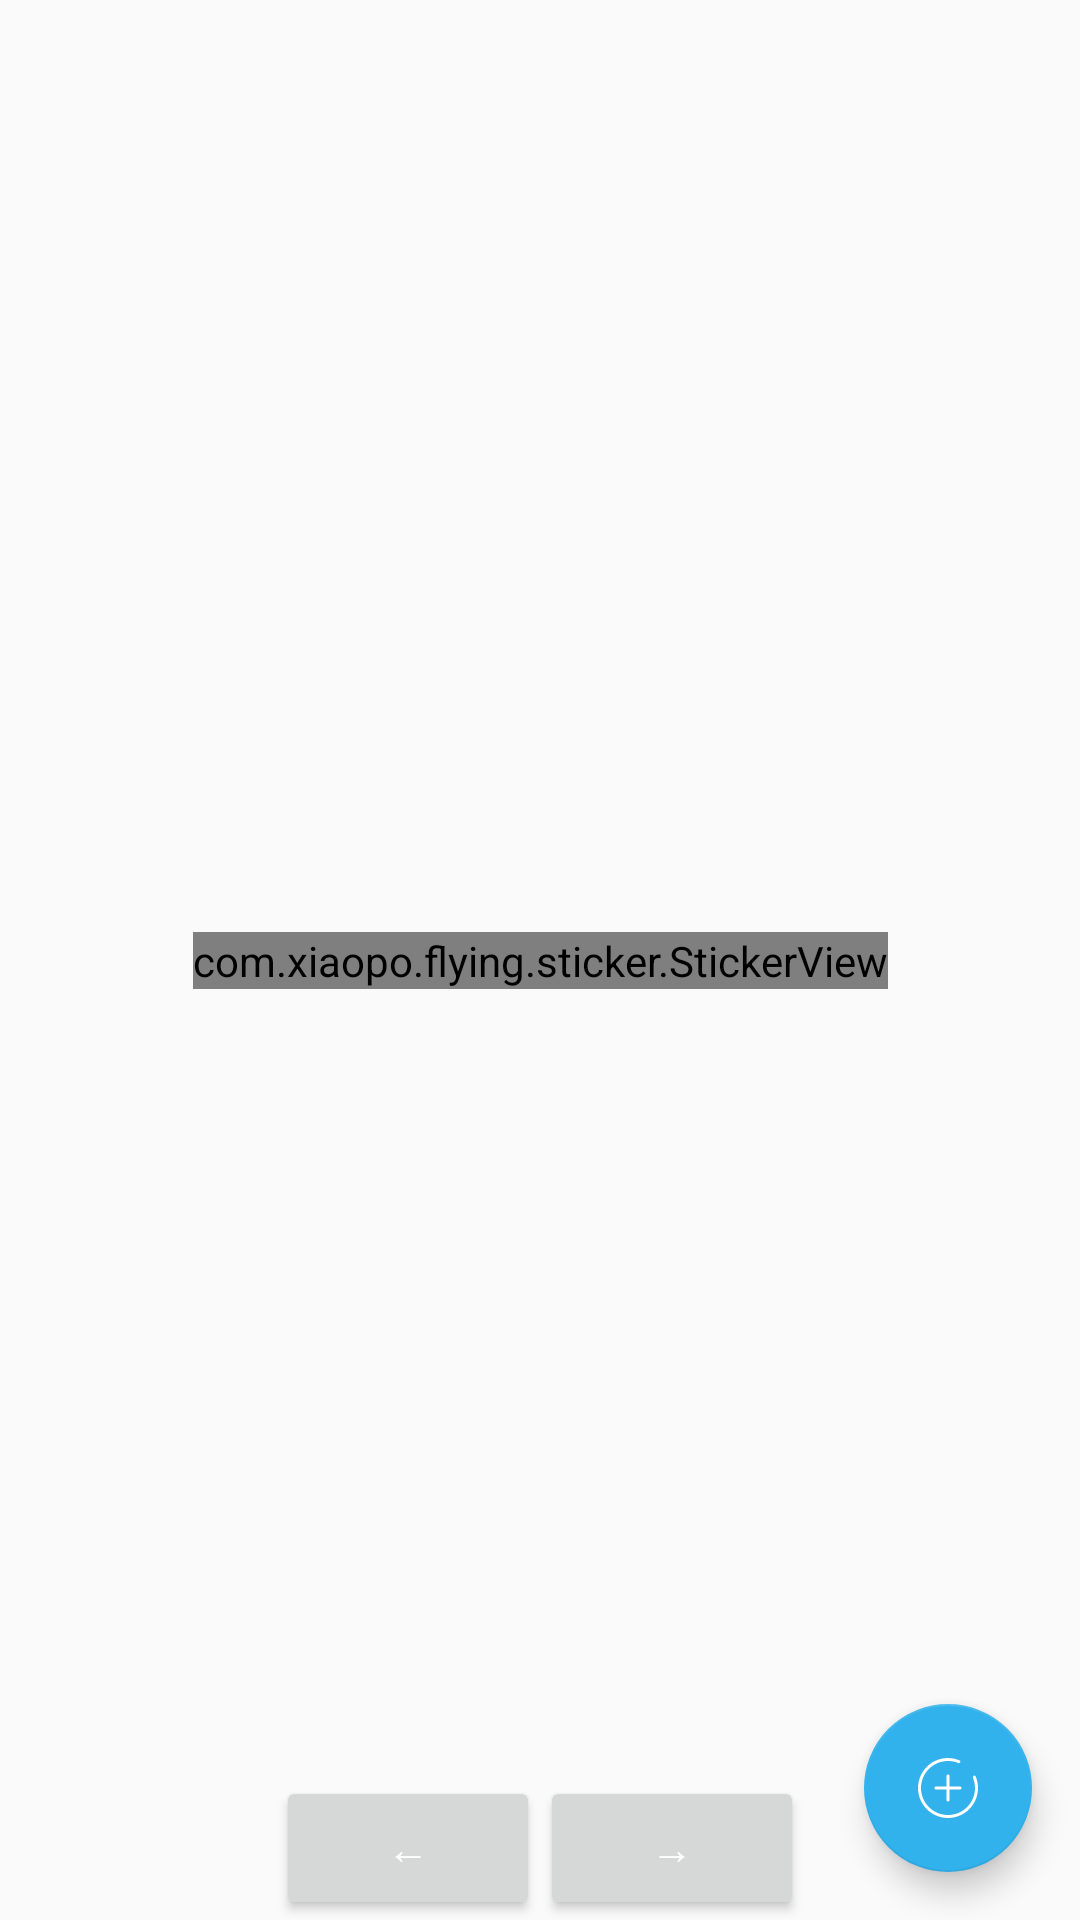

Point at icon controls on the screen. Image size 1080*1920, points as (x,y).
jia: (948,1788)
